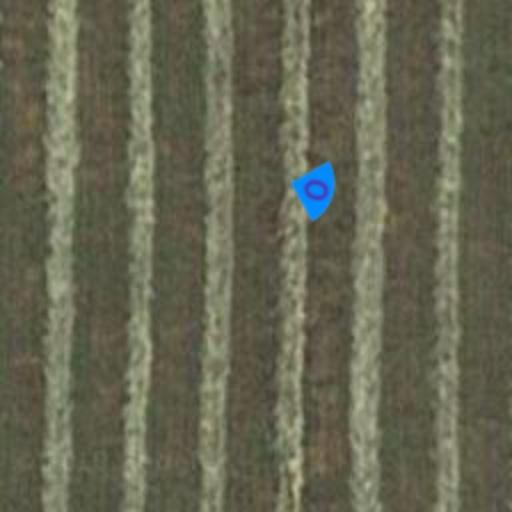quarter_circle: (278, 152, 354, 228)
